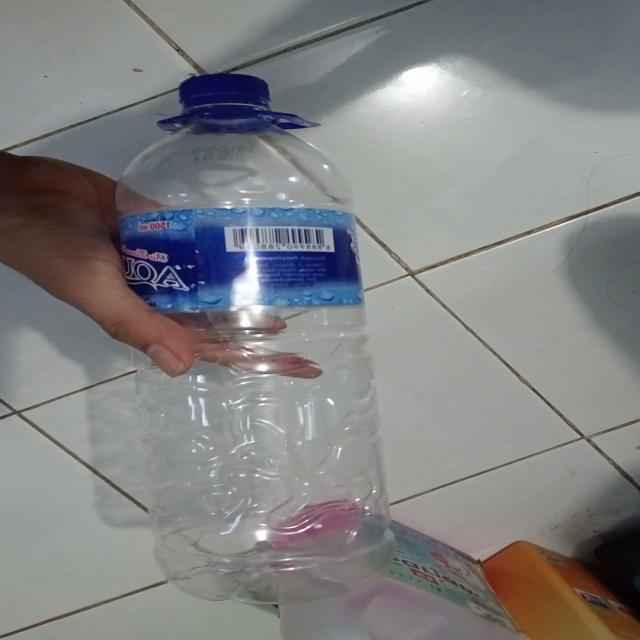Botol bekas: (118, 75, 402, 606)
